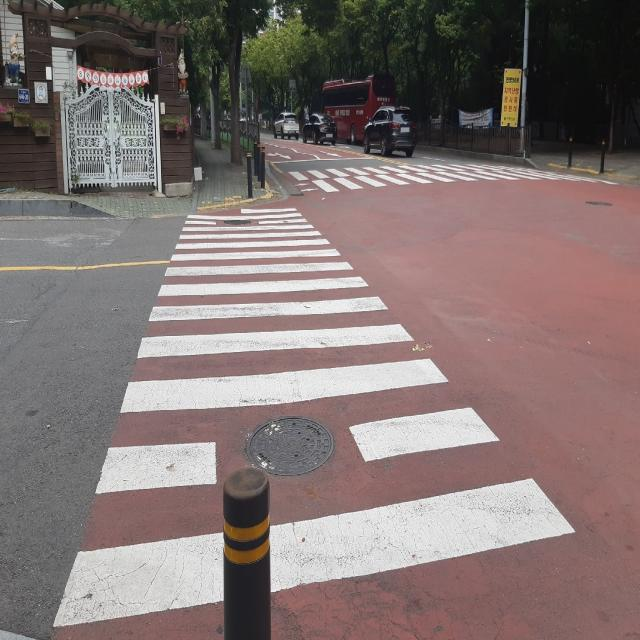횡단보도: (51, 205, 576, 629), (286, 168, 516, 186)
